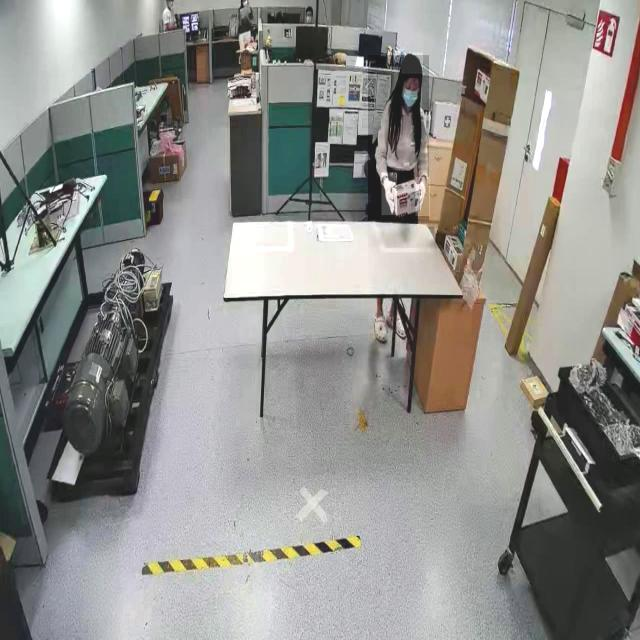face_mask: (402, 78, 422, 115)
hand_glove: (381, 172, 397, 216), (415, 177, 429, 217)
head_nohelmet: (401, 52, 423, 74)
person: (367, 55, 429, 221)
